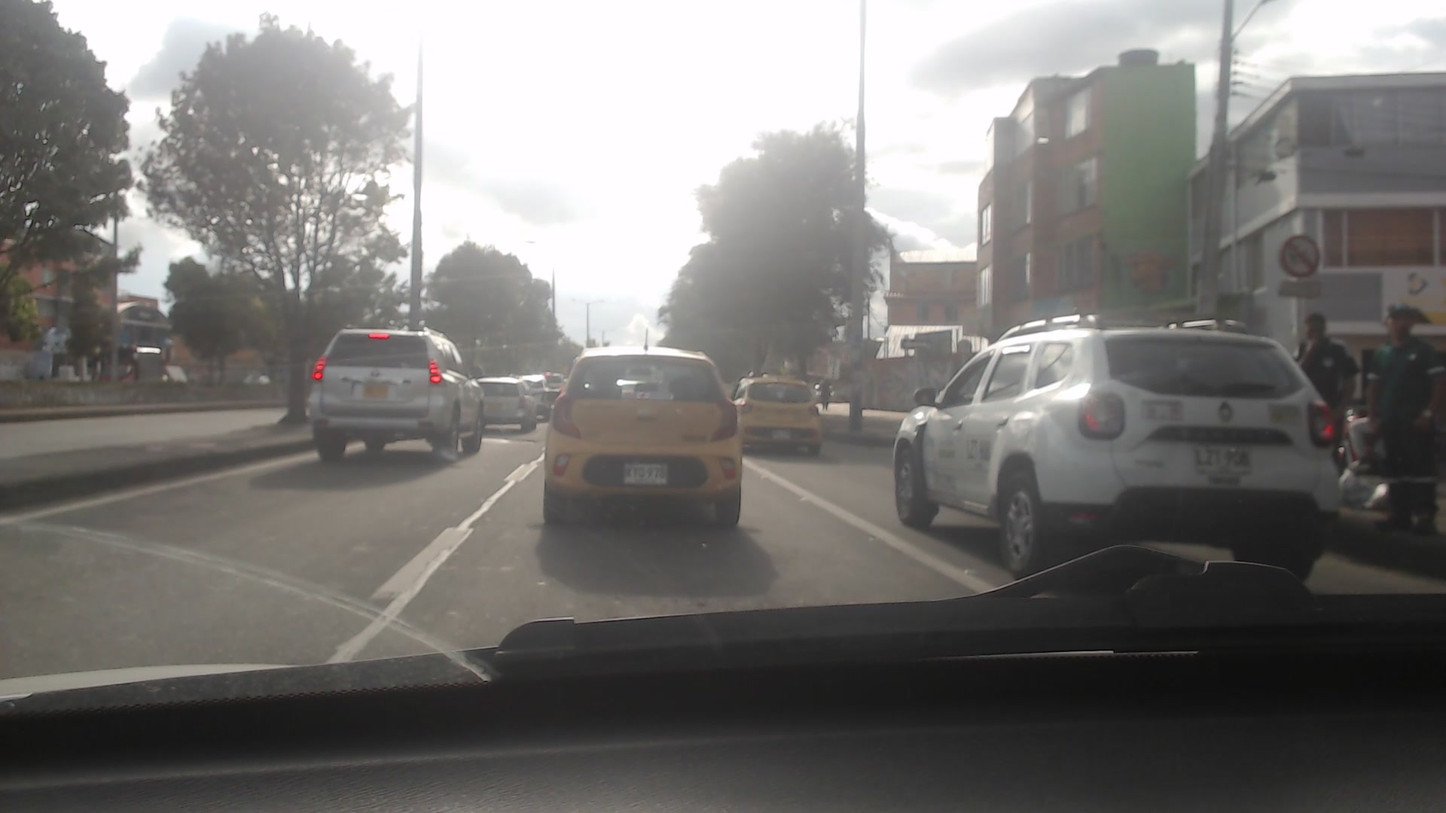car: (888, 314, 1336, 592), (541, 339, 747, 536), (306, 326, 488, 458), (723, 372, 827, 461), (469, 377, 538, 429)
person: (1357, 300, 1446, 550), (1283, 304, 1363, 431)
